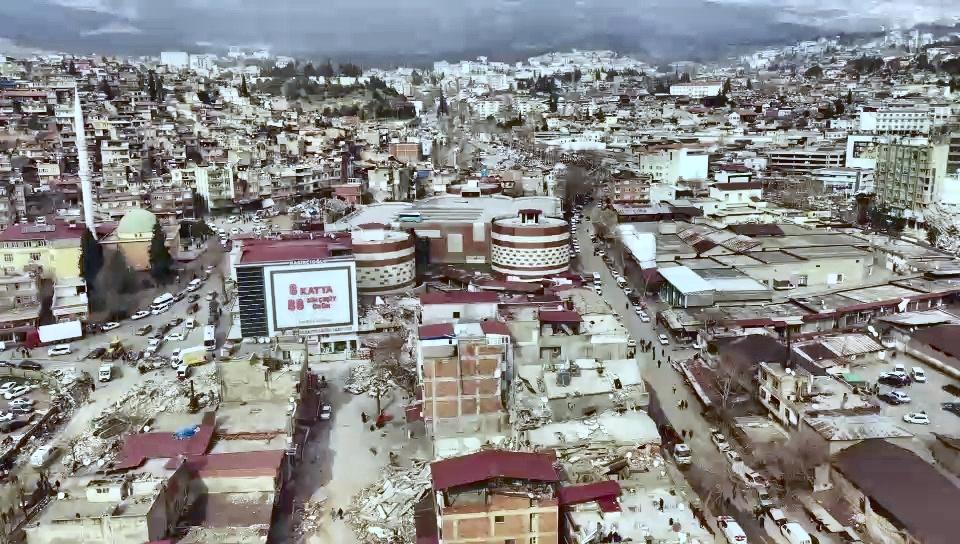kapali: (267, 442, 433, 543)
